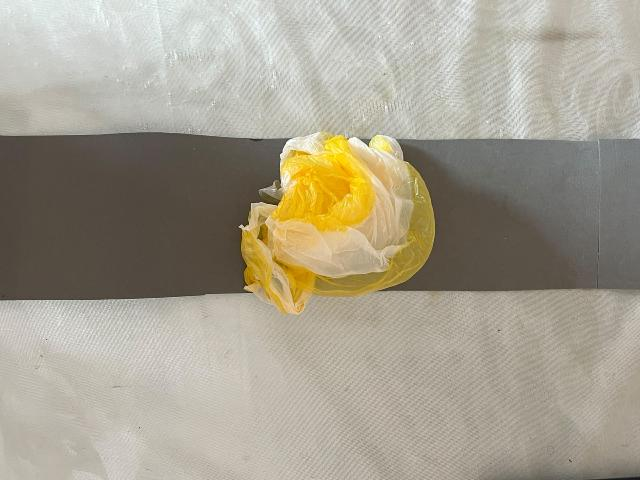LDPE: (219, 111, 452, 323)
